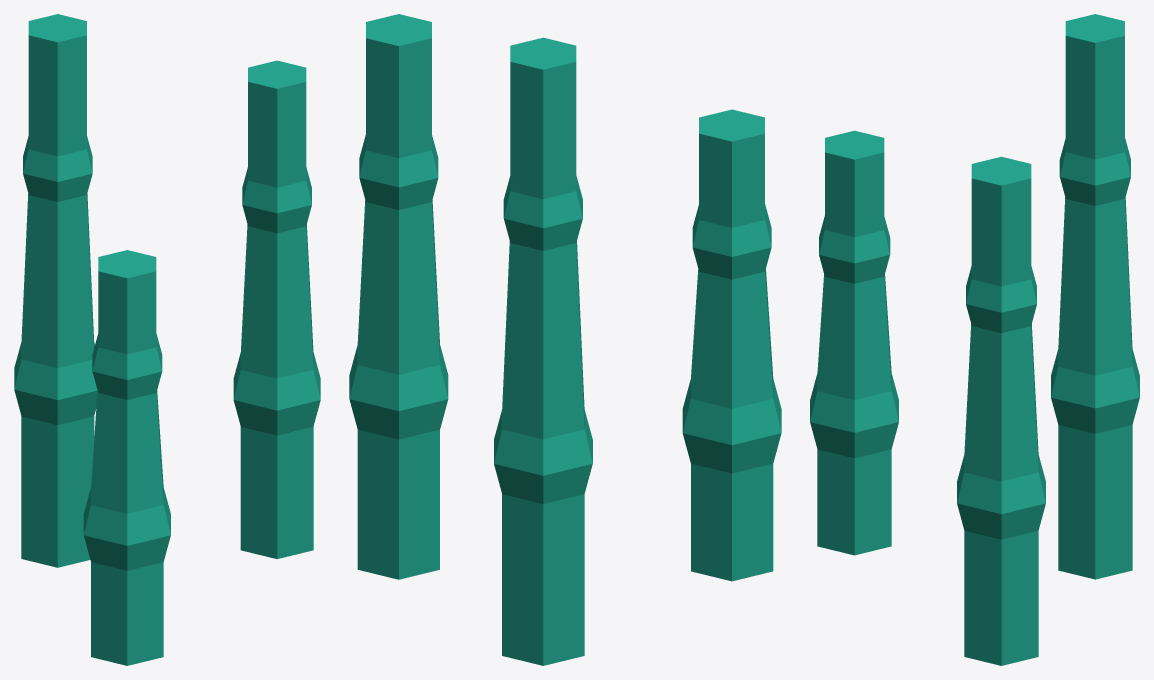
Rendered from crops_bambooStageA.glb.
3 renders of one model, left to right at view 1: azimuth 30°, elevation 25°; view 2: azimuth 150°, elevation 25°; view 3: azimuth 270°, elevation 25°, orthographic. The views are drawn at different scales.
Visible parts, largest first — view 1: crops_bambooStageA; view 2: crops_bambooStageA; view 3: crops_bambooStageA.
Part boxes in pixels (x1,y1,x2,y2): crops_bambooStageA: [14, 14, 320, 665]; crops_bambooStageA: [349, 14, 781, 665]; crops_bambooStageA: [810, 14, 1139, 665].
Size of the model in its own units: 0.3401 by 0.549 by 0.308.
